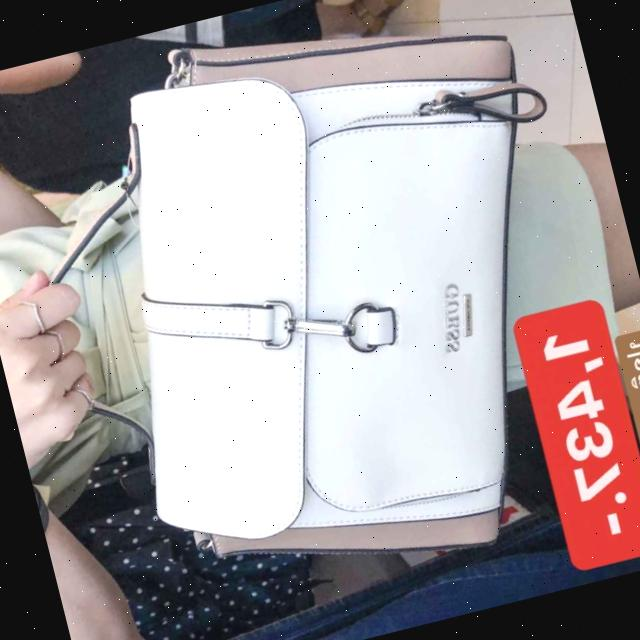Handbag: (22, 0, 629, 631)
